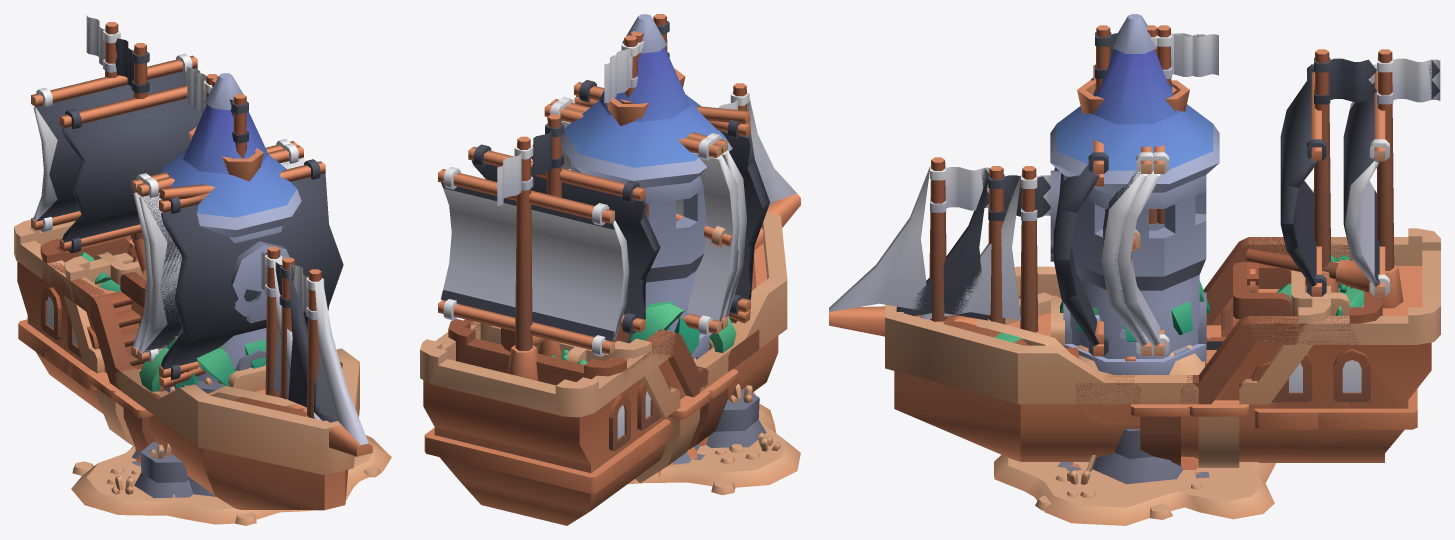
Rendered from props-beach.glb.
The picture shows the model from 3 angles, left to right: view 1: azimuth 30°, elevation 25°; view 2: azimuth 150°, elevation 25°; view 3: azimuth 270°, elevation 25°; orthographic projection. The views are drawn at different scales.
Visible parts, largest first — view 1: ship-large_0, ship-pirate-medium_4, ship-pirate-medium_0, ship-pirate-medium_5, tower-complete-large_0, patch-sand-foliage_0, ship-small_0, ship-large_4, ship-pirate-large_5, ship-large_5, rocks-a_0, ship-pirate-large_4 (+7 smaller); view 2: ship-large_0, ship-large_5, tower-complete-large_0, ship-pirate-medium_0, ship-small_3, ship-pirate-medium_5, patch-sand-foliage_0, ship-pirate-medium_4, ship-small_0, ship-pirate-large_5, rocks-a_0, ship-large_4 (+8 smaller); view 3: ship-large_0, ship-pirate-medium_0, tower-complete-large_0, patch-sand-foliage_0, ship-small_0, ship-pirate-medium_5, ship-pirate-medium_4, ship-large_5, ship-small_3, ship-large_4, ship-pirate-large_5, rocks-a_0 (+10 smaller).
Boxes of the visible parts, bbox=[...] form: ship-large_0: bbox=[14, 22, 372, 510]; ship-pirate-medium_4: bbox=[159, 159, 343, 380]; ship-pirate-medium_0: bbox=[40, 43, 337, 475]; ship-pirate-medium_5: bbox=[59, 85, 201, 253]; tower-complete-large_0: bbox=[160, 73, 301, 382]; patch-sand-foliage_0: bbox=[71, 435, 391, 525]; ship-small_0: bbox=[64, 74, 321, 420]; ship-large_4: bbox=[137, 143, 304, 363]; ship-pirate-large_5: bbox=[33, 68, 197, 221]; ship-large_5: bbox=[31, 53, 197, 232]; rocks-a_0: bbox=[131, 380, 225, 498]; ship-pirate-large_4: bbox=[143, 158, 301, 353]; ship-large_0: bbox=[420, 31, 800, 525]; ship-large_5: bbox=[438, 167, 629, 356]; tower-complete-large_0: bbox=[561, 14, 732, 343]; ship-pirate-medium_0: bbox=[448, 14, 763, 490]; ship-small_3: bbox=[544, 101, 739, 336]; ship-pirate-medium_5: bbox=[468, 144, 660, 334]; patch-sand-foliage_0: bbox=[628, 392, 800, 495]; ship-pirate-medium_4: bbox=[574, 80, 769, 314]; ship-small_0: bbox=[480, 35, 735, 465]; ship-pirate-large_5: bbox=[440, 182, 629, 341]; rocks-a_0: bbox=[694, 333, 766, 460]; ship-large_4: bbox=[551, 97, 746, 329]; ship-large_0: bbox=[829, 25, 1440, 467]; ship-pirate-medium_0: bbox=[896, 25, 1382, 466]; tower-complete-large_0: bbox=[1050, 14, 1219, 358]; patch-sand-foliage_0: bbox=[994, 455, 1275, 525]; ship-small_0: bbox=[920, 25, 1330, 462]; ship-pirate-medium_5: bbox=[1280, 64, 1326, 296]; ship-pirate-medium_4: bbox=[1050, 78, 1108, 356]; ship-large_5: bbox=[1345, 64, 1389, 296]; ship-small_3: bbox=[1114, 145, 1169, 356]; ship-large_4: bbox=[1101, 146, 1155, 356]; ship-pirate-large_5: bbox=[1343, 82, 1379, 286]; rocks-a_0: bbox=[1057, 429, 1182, 484].
Bounding box in the file's own units: 23.21 × 30.97 × 39.3.
Materials: 12 (1 with a texture image).
